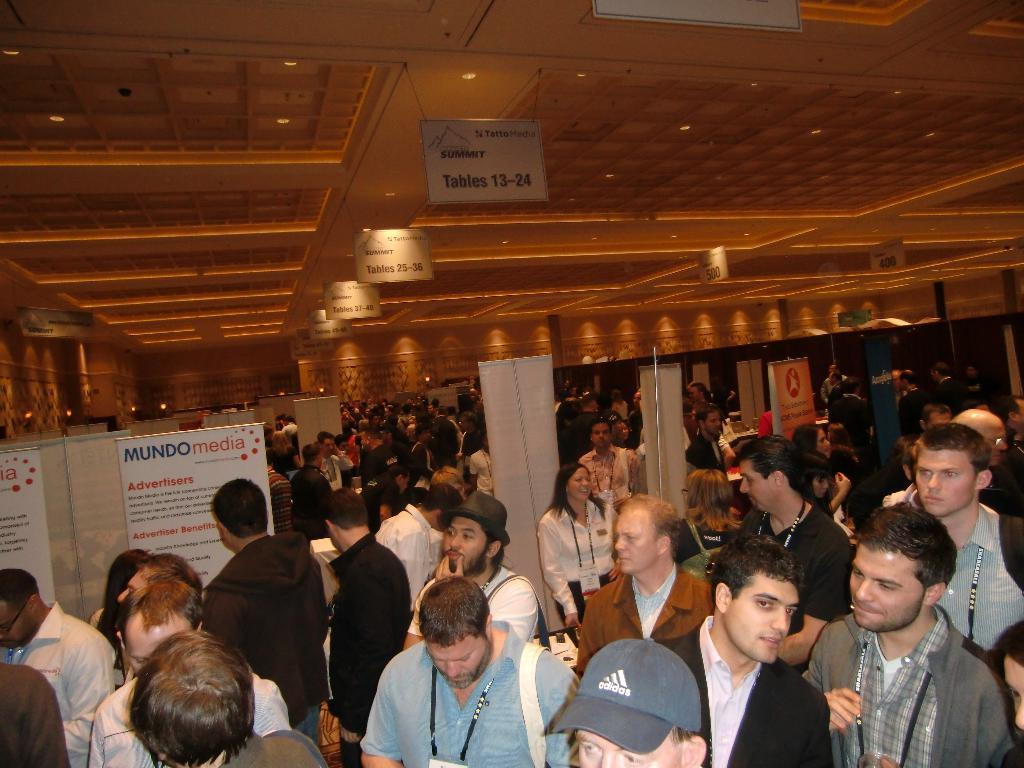Hat: (550, 637, 701, 755), (440, 490, 510, 548)
